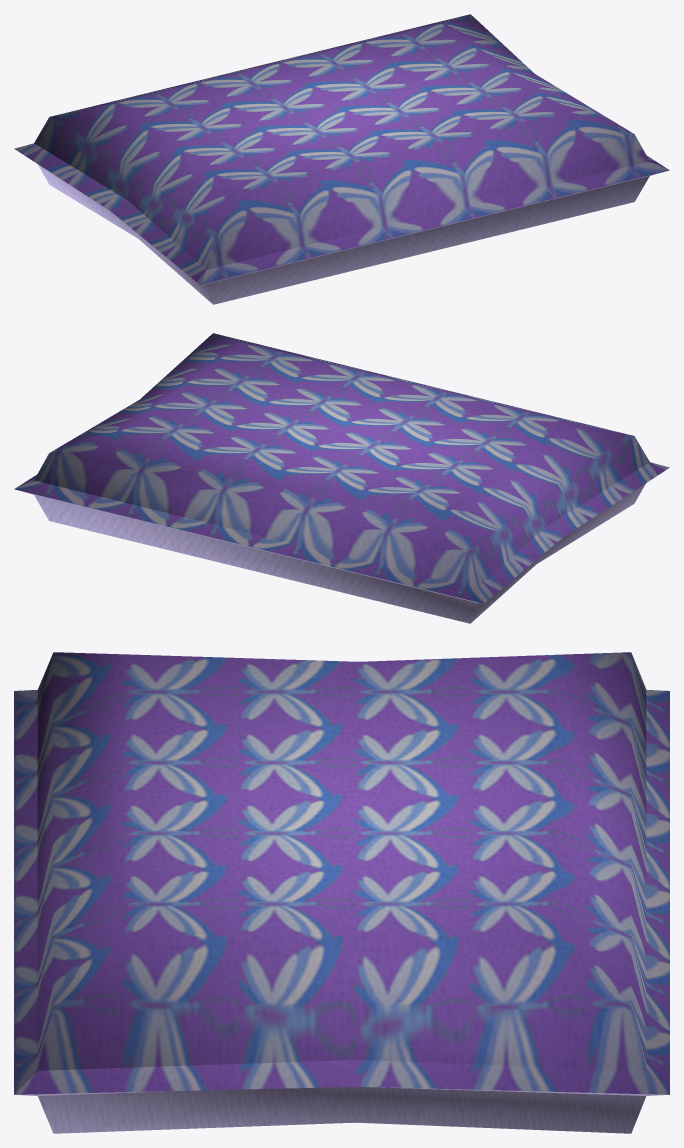
The model's file is Childrens_Pillow_F.FBX.
3 renders of one model, top to bottom at view 1: azimuth 30°, elevation 25°; view 2: azimuth 150°, elevation 25°; view 3: azimuth 270°, elevation 25°, orthographic. The views are drawn at different scales.
Parts seen in each view (by area): view 1: Pillow; view 2: Pillow; view 3: Pillow.
Boxes of the visible parts, x1,y1,x2,y2 form: Pillow: (14, 14, 669, 304); Pillow: (14, 333, 669, 623); Pillow: (14, 652, 669, 1133).
Bounding box in the file's own units: 194 × 41.64 × 133.
